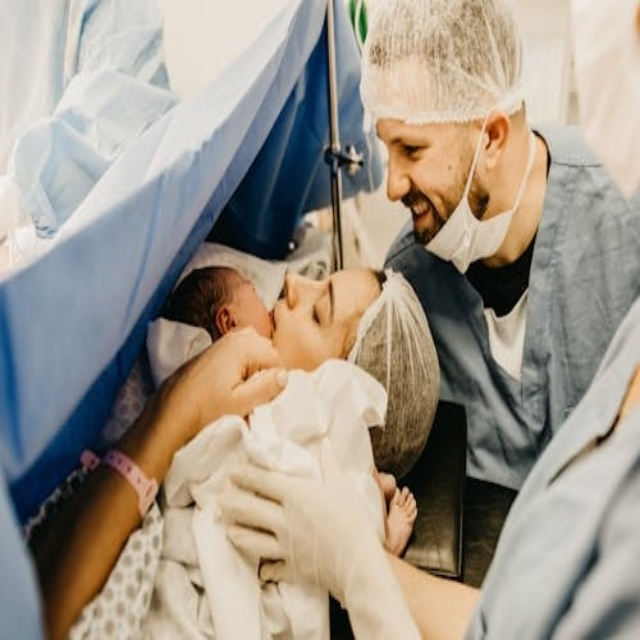Guantes: (219, 438, 385, 609)
Sin_gafas: (375, 121, 431, 163), (308, 258, 339, 332)
Sin_guantes: (151, 323, 282, 436)
Sin_mascara: (266, 271, 292, 342), (403, 188, 440, 227)
